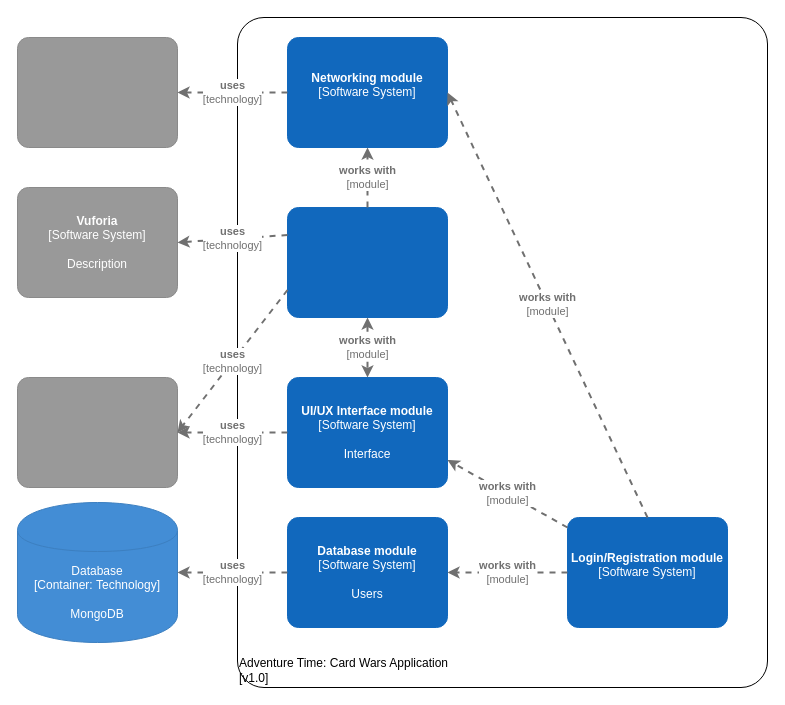
Image size: 785x705. Some labels were removed from this diagram. The shapes that lost their labels are listed below. From the top down, each one's centre as x and y in pixels, then its label:
the point at 97,92: Normcore [Software System] Description
the point at 367,262: Game Logic module [Software System] Game Application
the point at 97,432: Unity [Software System] Description
